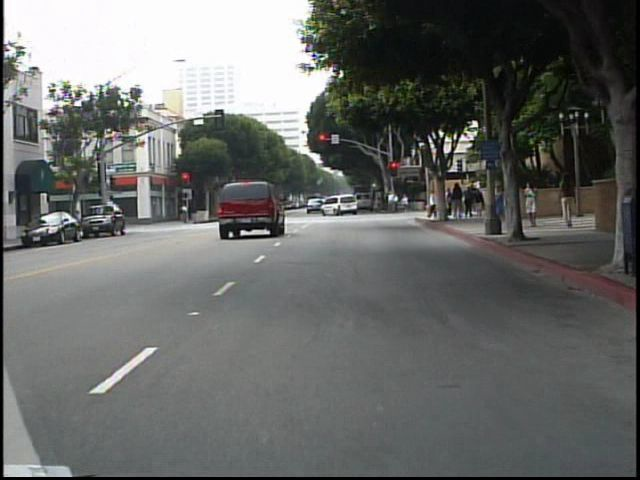person: (554, 169, 579, 233), (522, 179, 539, 229), (503, 178, 519, 229), (450, 177, 466, 223), (425, 188, 439, 221)
